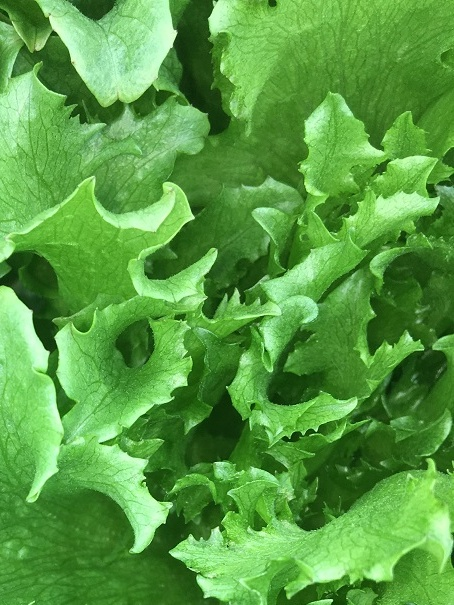tipburn: (65, 54, 81, 71), (41, 7, 58, 22), (164, 184, 180, 199), (30, 41, 46, 54)
